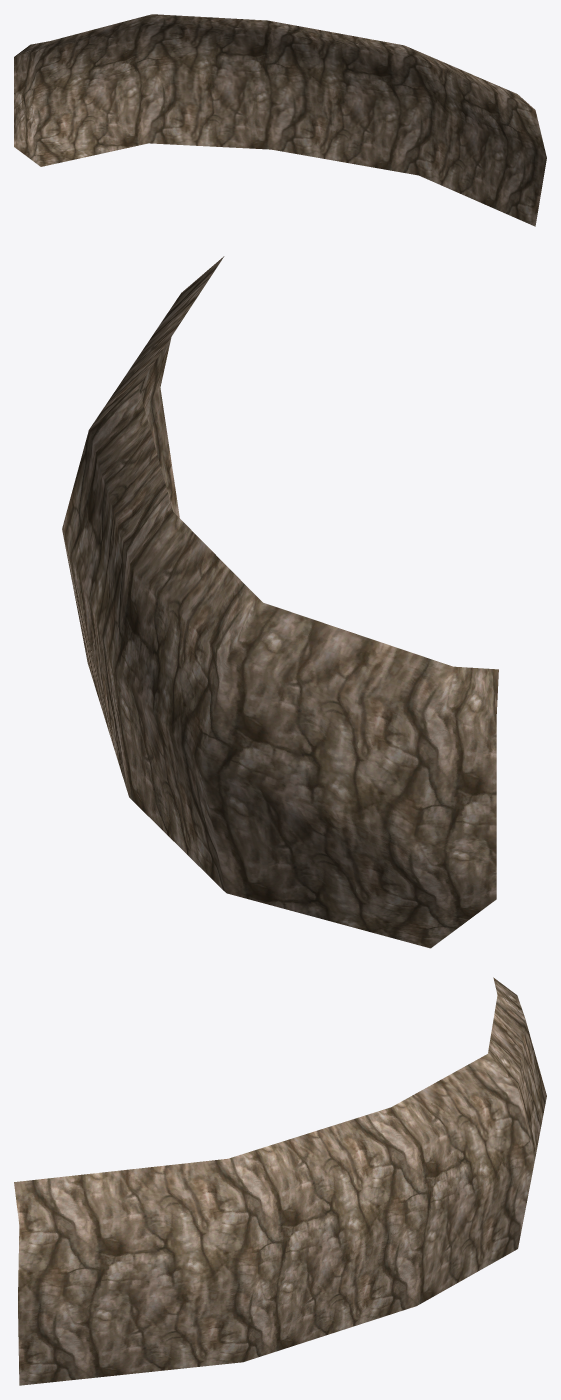
File: OVERHILL_A_01_OBJECT139.fbx
3 views of the same model, one above another, from view 1: azimuth 30°, elevation 25°; view 2: azimuth 150°, elevation 25°; view 3: azimuth 270°, elevation 25° (orthographic). The views are drawn at different scales.
Parts seen in each view (by area): view 1: OVERHILL_A_01_OBJECT139; view 2: OVERHILL_A_01_OBJECT139; view 3: OVERHILL_A_01_OBJECT139.
Part boxes in pixels (x1,y1,x2,y2): OVERHILL_A_01_OBJECT139: (14, 14, 546, 226); OVERHILL_A_01_OBJECT139: (62, 256, 498, 948); OVERHILL_A_01_OBJECT139: (14, 977, 546, 1385).
Size of the model in its own units: 250438 by 94949 by 240969.
1 material, 1 textured.
